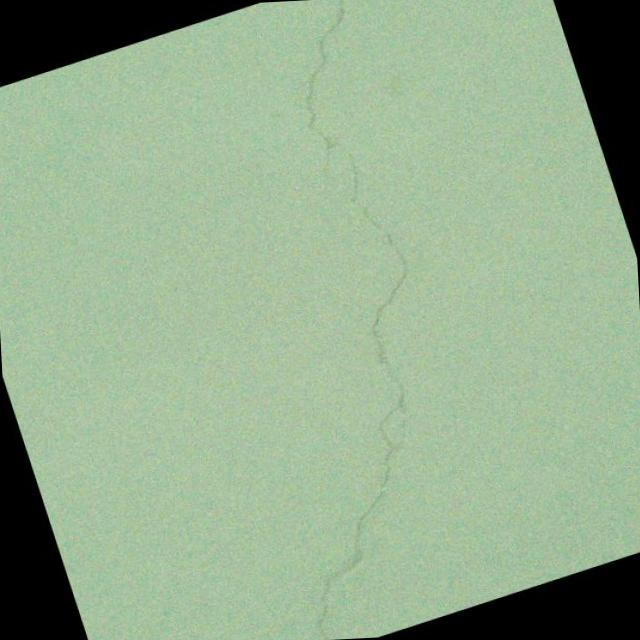crack: (117, 0, 560, 640)
